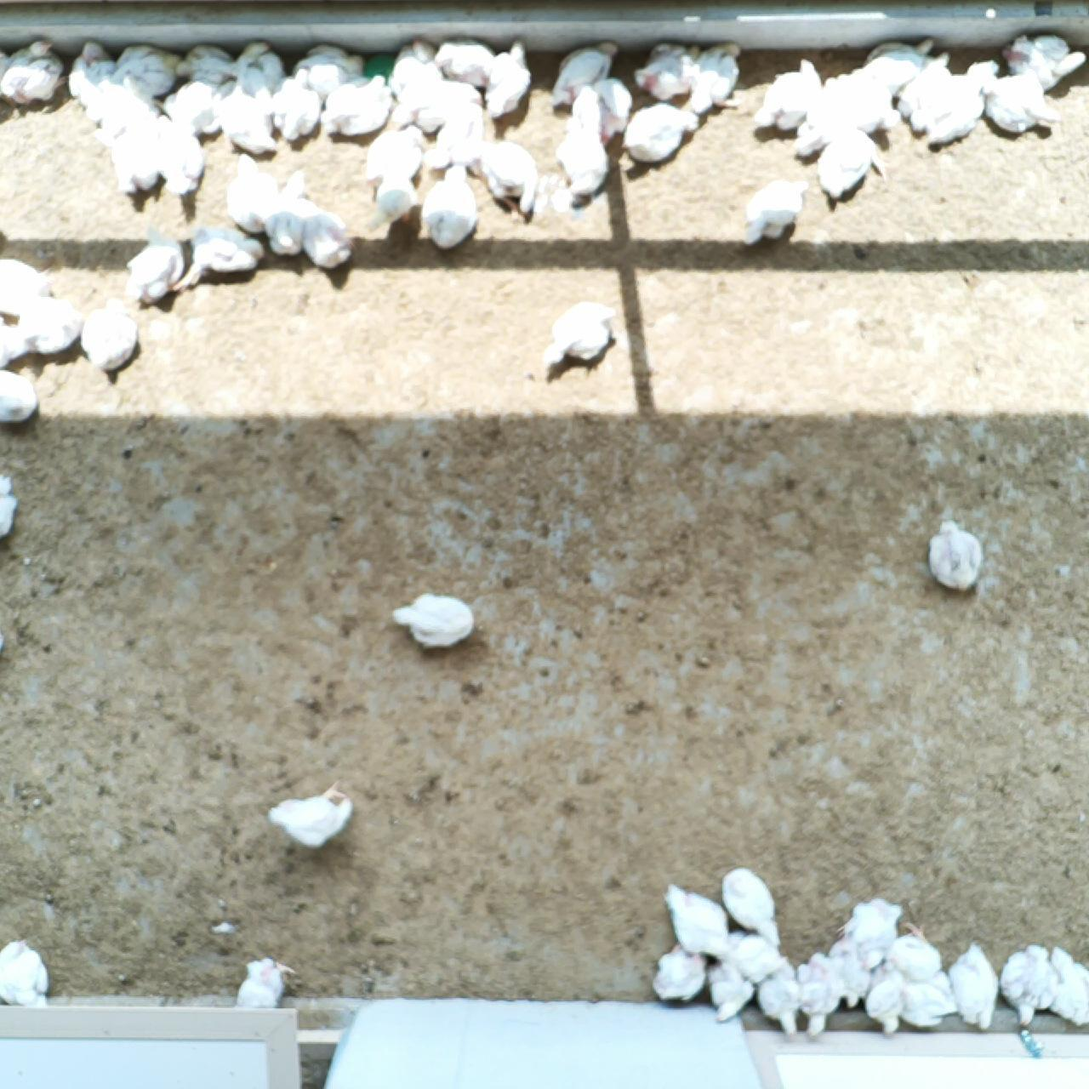chicken: (174, 225, 265, 296), (925, 61, 997, 145), (270, 783, 354, 848), (795, 83, 867, 157), (980, 66, 1059, 133), (419, 163, 477, 250), (754, 59, 823, 132), (1003, 35, 1087, 93), (544, 299, 616, 366), (1000, 944, 1058, 1027), (664, 882, 728, 957), (390, 78, 482, 130), (622, 102, 699, 163), (818, 130, 887, 198), (742, 178, 809, 248), (152, 114, 208, 197), (481, 140, 538, 220), (721, 866, 779, 944), (321, 73, 391, 137), (394, 592, 475, 647), (81, 298, 140, 373), (841, 898, 903, 969), (864, 39, 936, 100), (690, 40, 744, 121), (126, 226, 185, 300), (835, 68, 901, 134), (426, 104, 494, 168), (550, 40, 616, 105), (1, 41, 68, 105), (949, 944, 998, 1029), (556, 119, 609, 197), (896, 52, 954, 123), (633, 41, 701, 101), (222, 81, 277, 155), (231, 39, 282, 117), (226, 154, 277, 232), (292, 44, 363, 100), (90, 88, 161, 144), (298, 197, 356, 265), (573, 78, 632, 144), (929, 518, 982, 590), (485, 36, 531, 118), (756, 956, 800, 1041), (797, 951, 841, 1036), (272, 68, 322, 142), (365, 124, 424, 186), (267, 168, 309, 255), (368, 166, 422, 232), (16, 298, 83, 351), (162, 79, 225, 135), (115, 121, 162, 193), (114, 43, 179, 94), (891, 921, 944, 983), (900, 970, 956, 1028), (237, 958, 298, 1010), (1, 941, 49, 1007), (723, 930, 785, 981), (390, 38, 444, 96), (653, 944, 705, 1002), (1053, 944, 1089, 1027), (68, 41, 116, 103), (708, 960, 755, 1022), (437, 37, 493, 89), (829, 937, 870, 1007), (866, 966, 906, 1035), (1, 259, 50, 313), (174, 43, 235, 83), (1, 372, 37, 424), (1, 313, 31, 369), (1, 473, 18, 538)
